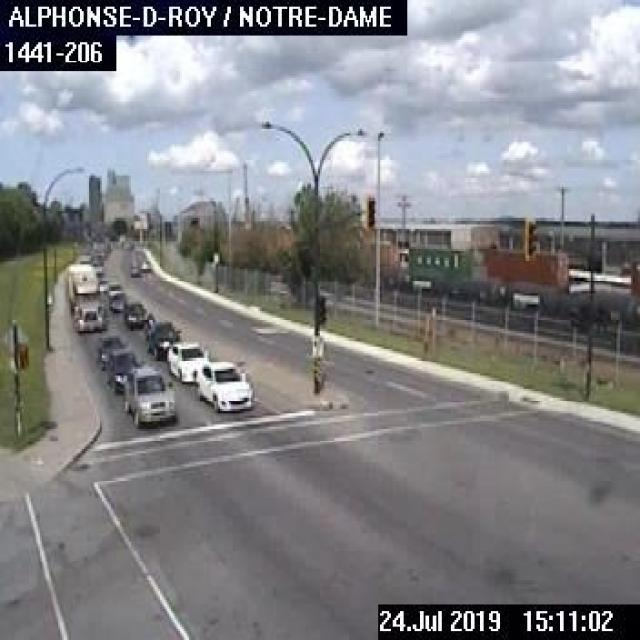vehicle: (122, 363, 179, 428), (190, 357, 252, 411), (60, 259, 104, 333), (164, 338, 205, 382), (105, 350, 140, 393), (144, 318, 178, 358), (95, 334, 128, 371), (120, 298, 148, 330), (107, 288, 126, 310), (104, 282, 122, 298), (137, 258, 153, 272), (127, 267, 140, 278)
